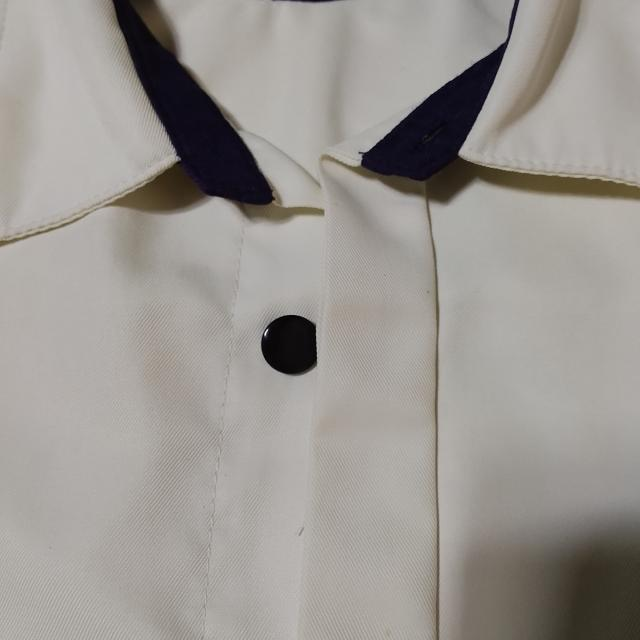education_male_uniform: (0, 0, 640, 473), (0, 0, 434, 500)
